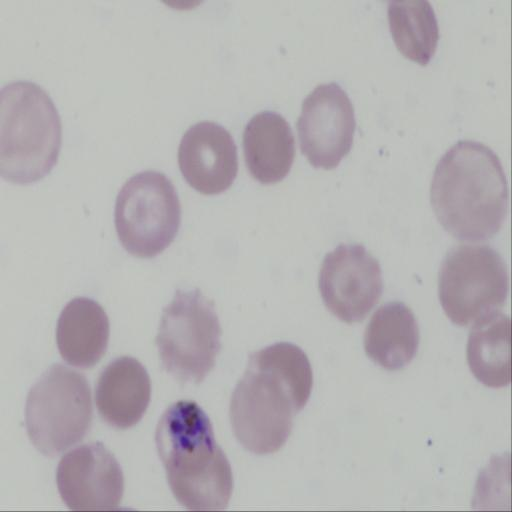Infected: (154, 400, 218, 476)
Uninfected: (433, 144, 512, 242), (0, 84, 63, 184), (113, 170, 181, 260), (27, 369, 93, 457), (156, 293, 221, 380), (439, 245, 511, 322), (231, 370, 293, 456), (54, 440, 127, 512), (318, 244, 384, 320), (301, 81, 357, 169), (179, 119, 239, 195), (251, 341, 312, 411), (93, 356, 152, 428), (170, 448, 236, 512), (363, 304, 419, 371), (244, 113, 296, 185), (384, 0, 440, 66), (57, 299, 110, 365), (467, 323, 512, 388)
